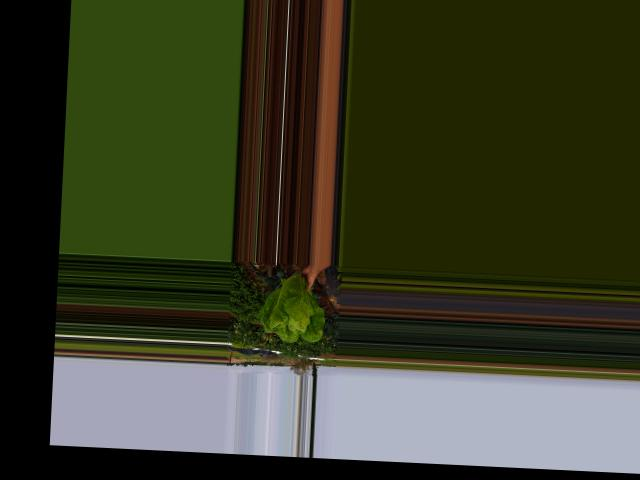lettuce: (256, 267, 330, 344)
